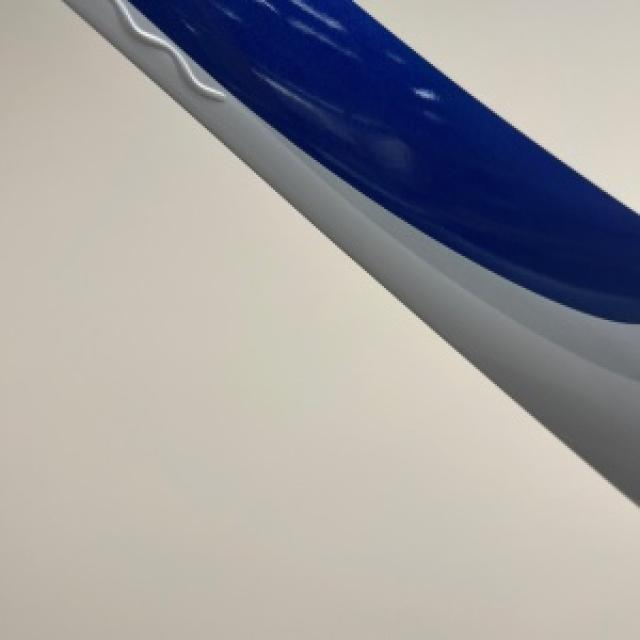healthy: (64, 0, 638, 503), (365, 0, 638, 205)
